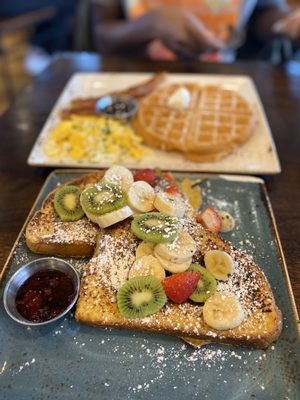sushi: (3, 257, 81, 328)
